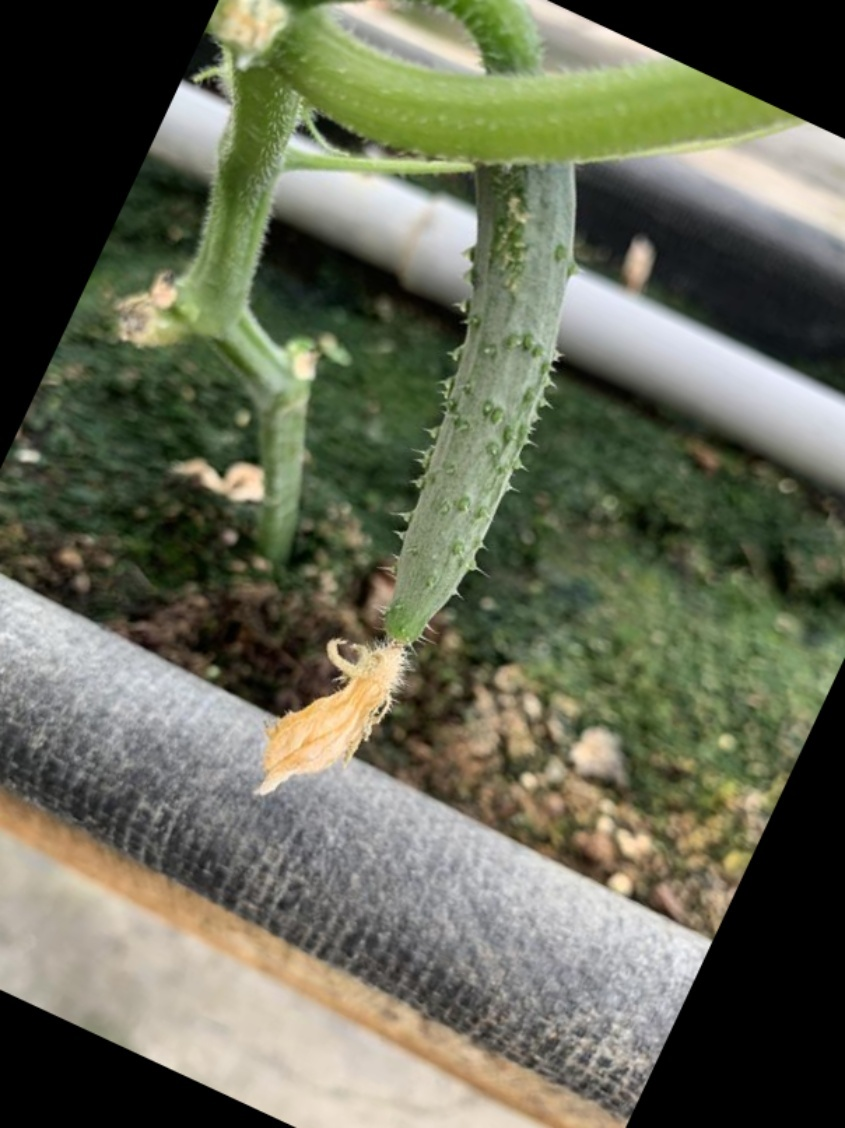bear: (261, 150, 620, 780)
